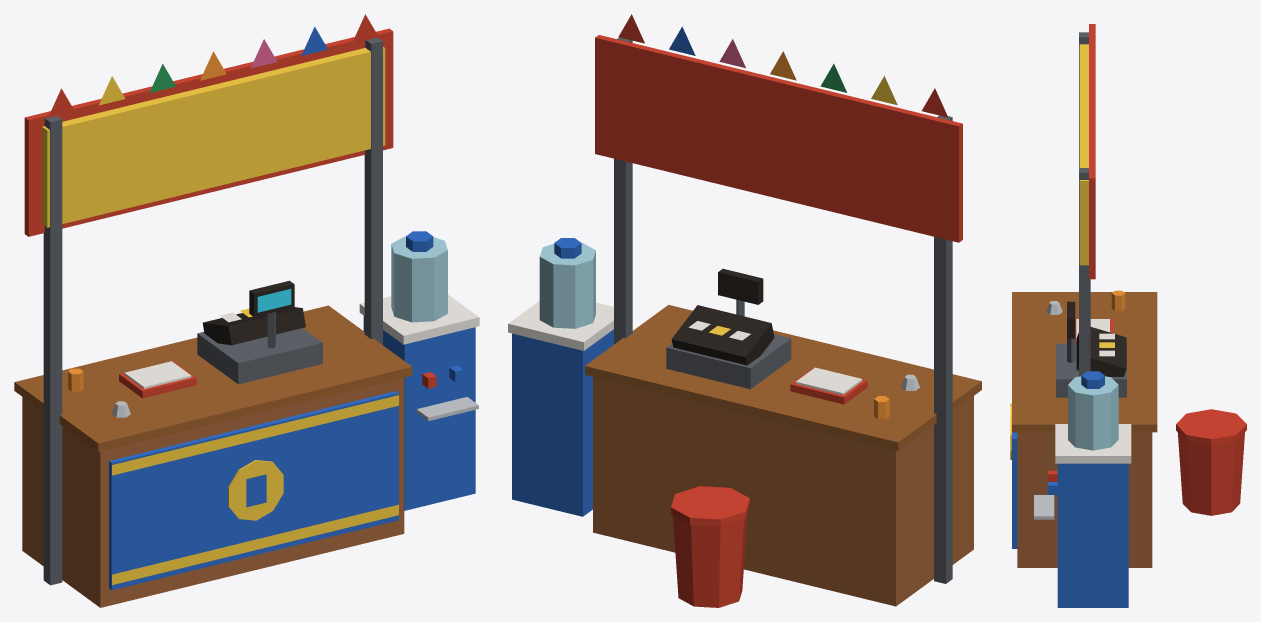
Rendered from cashier_desk.glb.
3 renders of one model, left to right at view 1: azimuth 30°, elevation 25°; view 2: azimuth 150°, elevation 25°; view 3: azimuth 270°, elevation 25°, orthographic. The views are drawn at different scales.
Visible parts, largest first — view 1: cashier_desk; view 2: cashier_desk; view 3: cashier_desk.
Part boxes in pixels (left/top/right/bottom): cashier_desk: left=14, top=14, right=479, bottom=607; cashier_desk: left=508, top=14, right=981, bottom=607; cashier_desk: left=1010, top=24, right=1246, bottom=607.
Size of the model in its own units: 2.56 by 2.78 by 1.4.
1 material, 1 textured.
